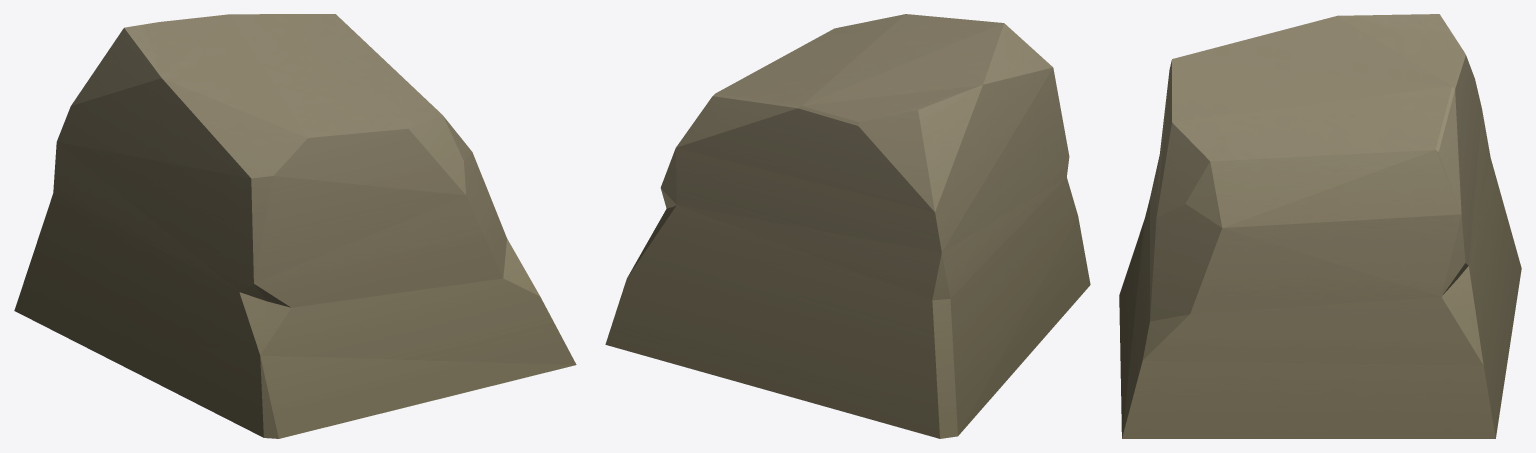
File: Rock_05.fbx
3 views of the same model, side by side, from view 1: azimuth 30°, elevation 25°; view 2: azimuth 150°, elevation 25°; view 3: azimuth 270°, elevation 25° (orthographic). The views are drawn at different scales.
Visible parts, largest first — view 1: Rock_05; view 2: Rock_05; view 3: Rock_05.
Part boxes in pixels (x1,y1,x2,y2): Rock_05: (14,14,576,438); Rock_05: (605,14,1090,438); Rock_05: (1119,14,1521,438).
Size of the model in its own units: 406 by 308 by 393.
